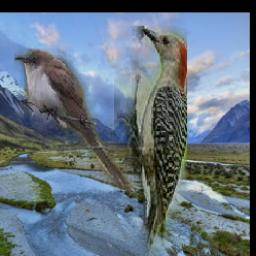Cuckoo: (14, 50, 132, 191)
Woodpecker: (115, 27, 188, 256)
